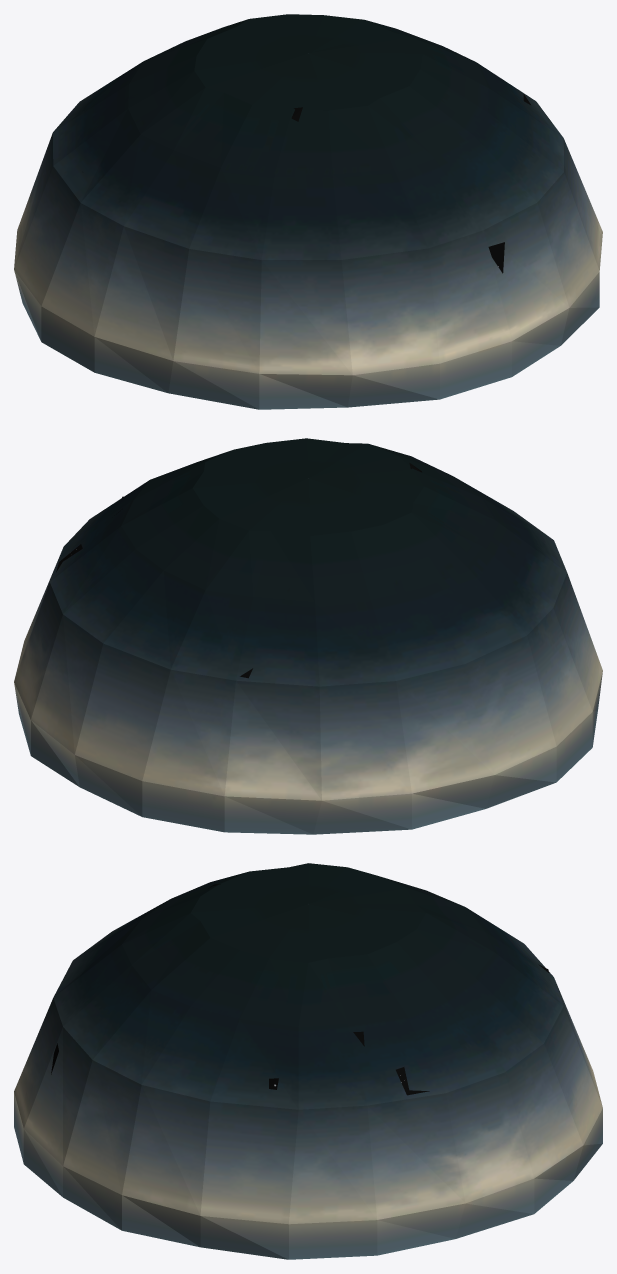
File: C2_Blackgold_skydome.obj
3 views of the same model, one above another, from view 1: azimuth 30°, elevation 25°; view 2: azimuth 150°, elevation 25°; view 3: azimuth 270°, elevation 25° (orthographic).
Visible parts, largest first — view 1: Node 0; view 2: Node 0; view 3: Node 0, Node 1.
Boxes of the visible parts, left/top/right/bottom form: Node 0: left=14, top=14, right=602, bottom=409; Node 0: left=14, top=438, right=602, bottom=834; Node 0: left=14, top=863, right=602, bottom=1259; Node 1: left=51, top=884, right=548, bottom=1095.
Bounding box in the file's own units: 0.6 × 0.26 × 0.6.
11 materials, 11 textured.
